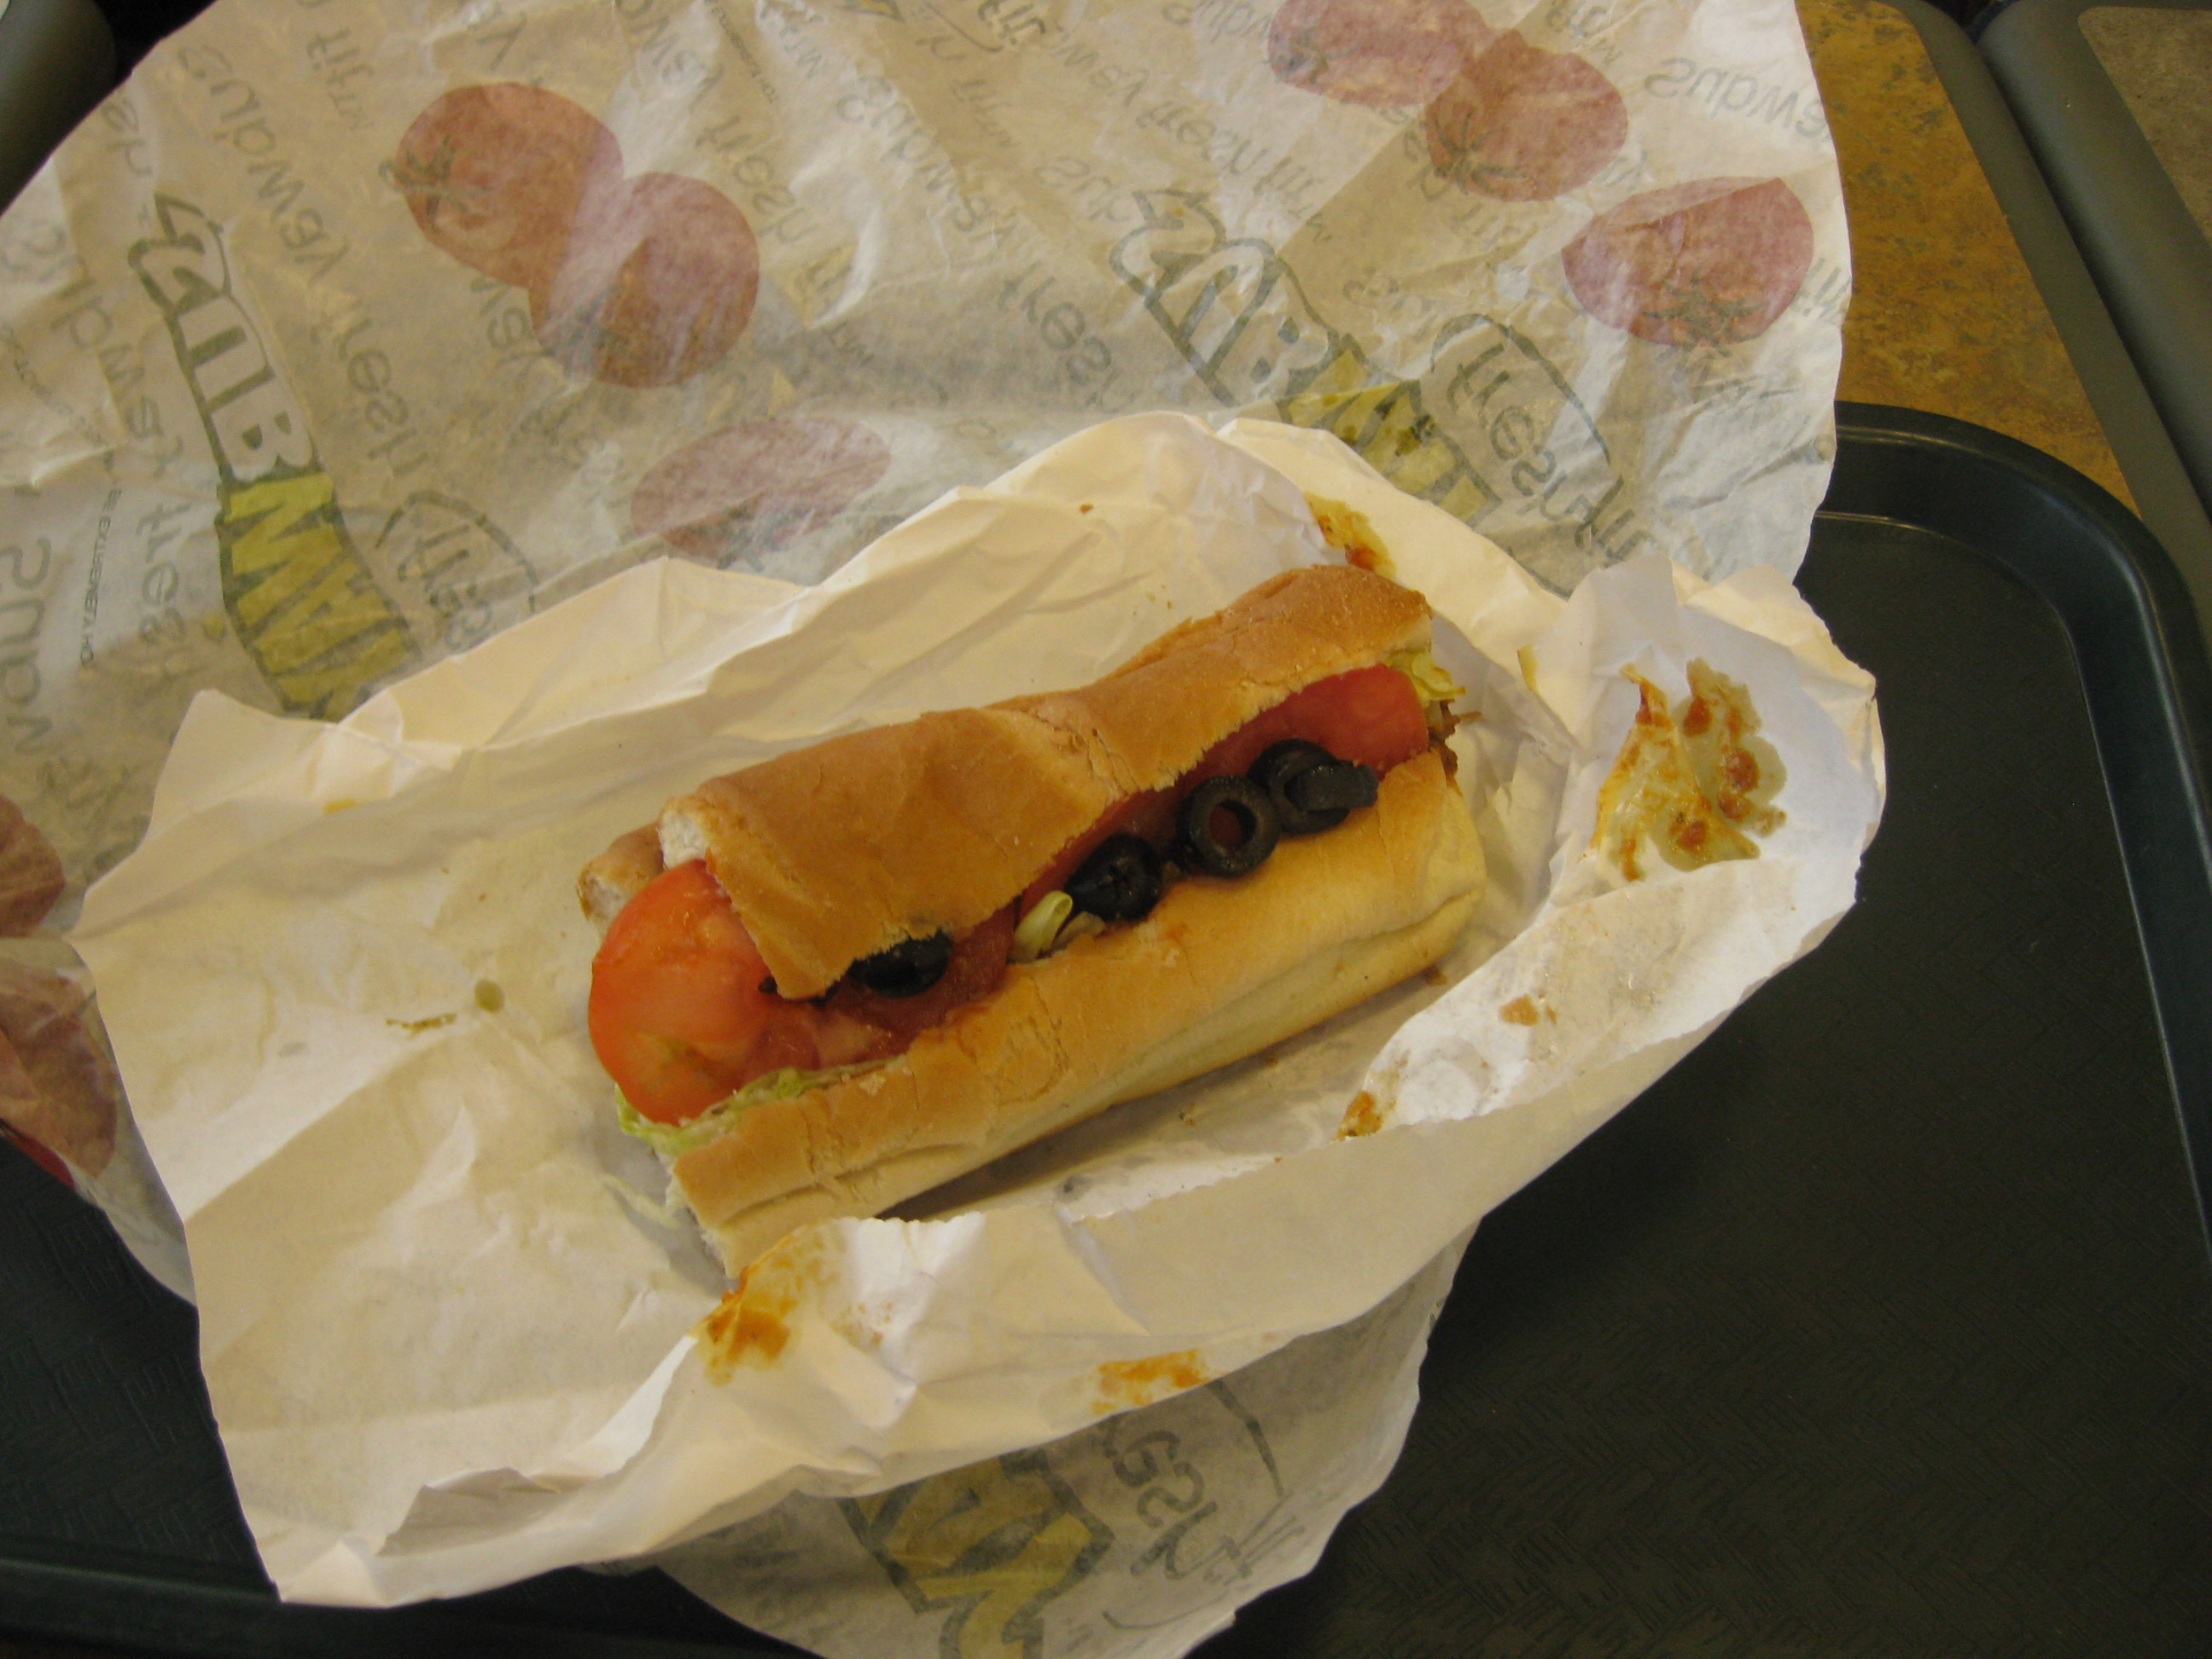sub: (536, 551, 1639, 1270)
